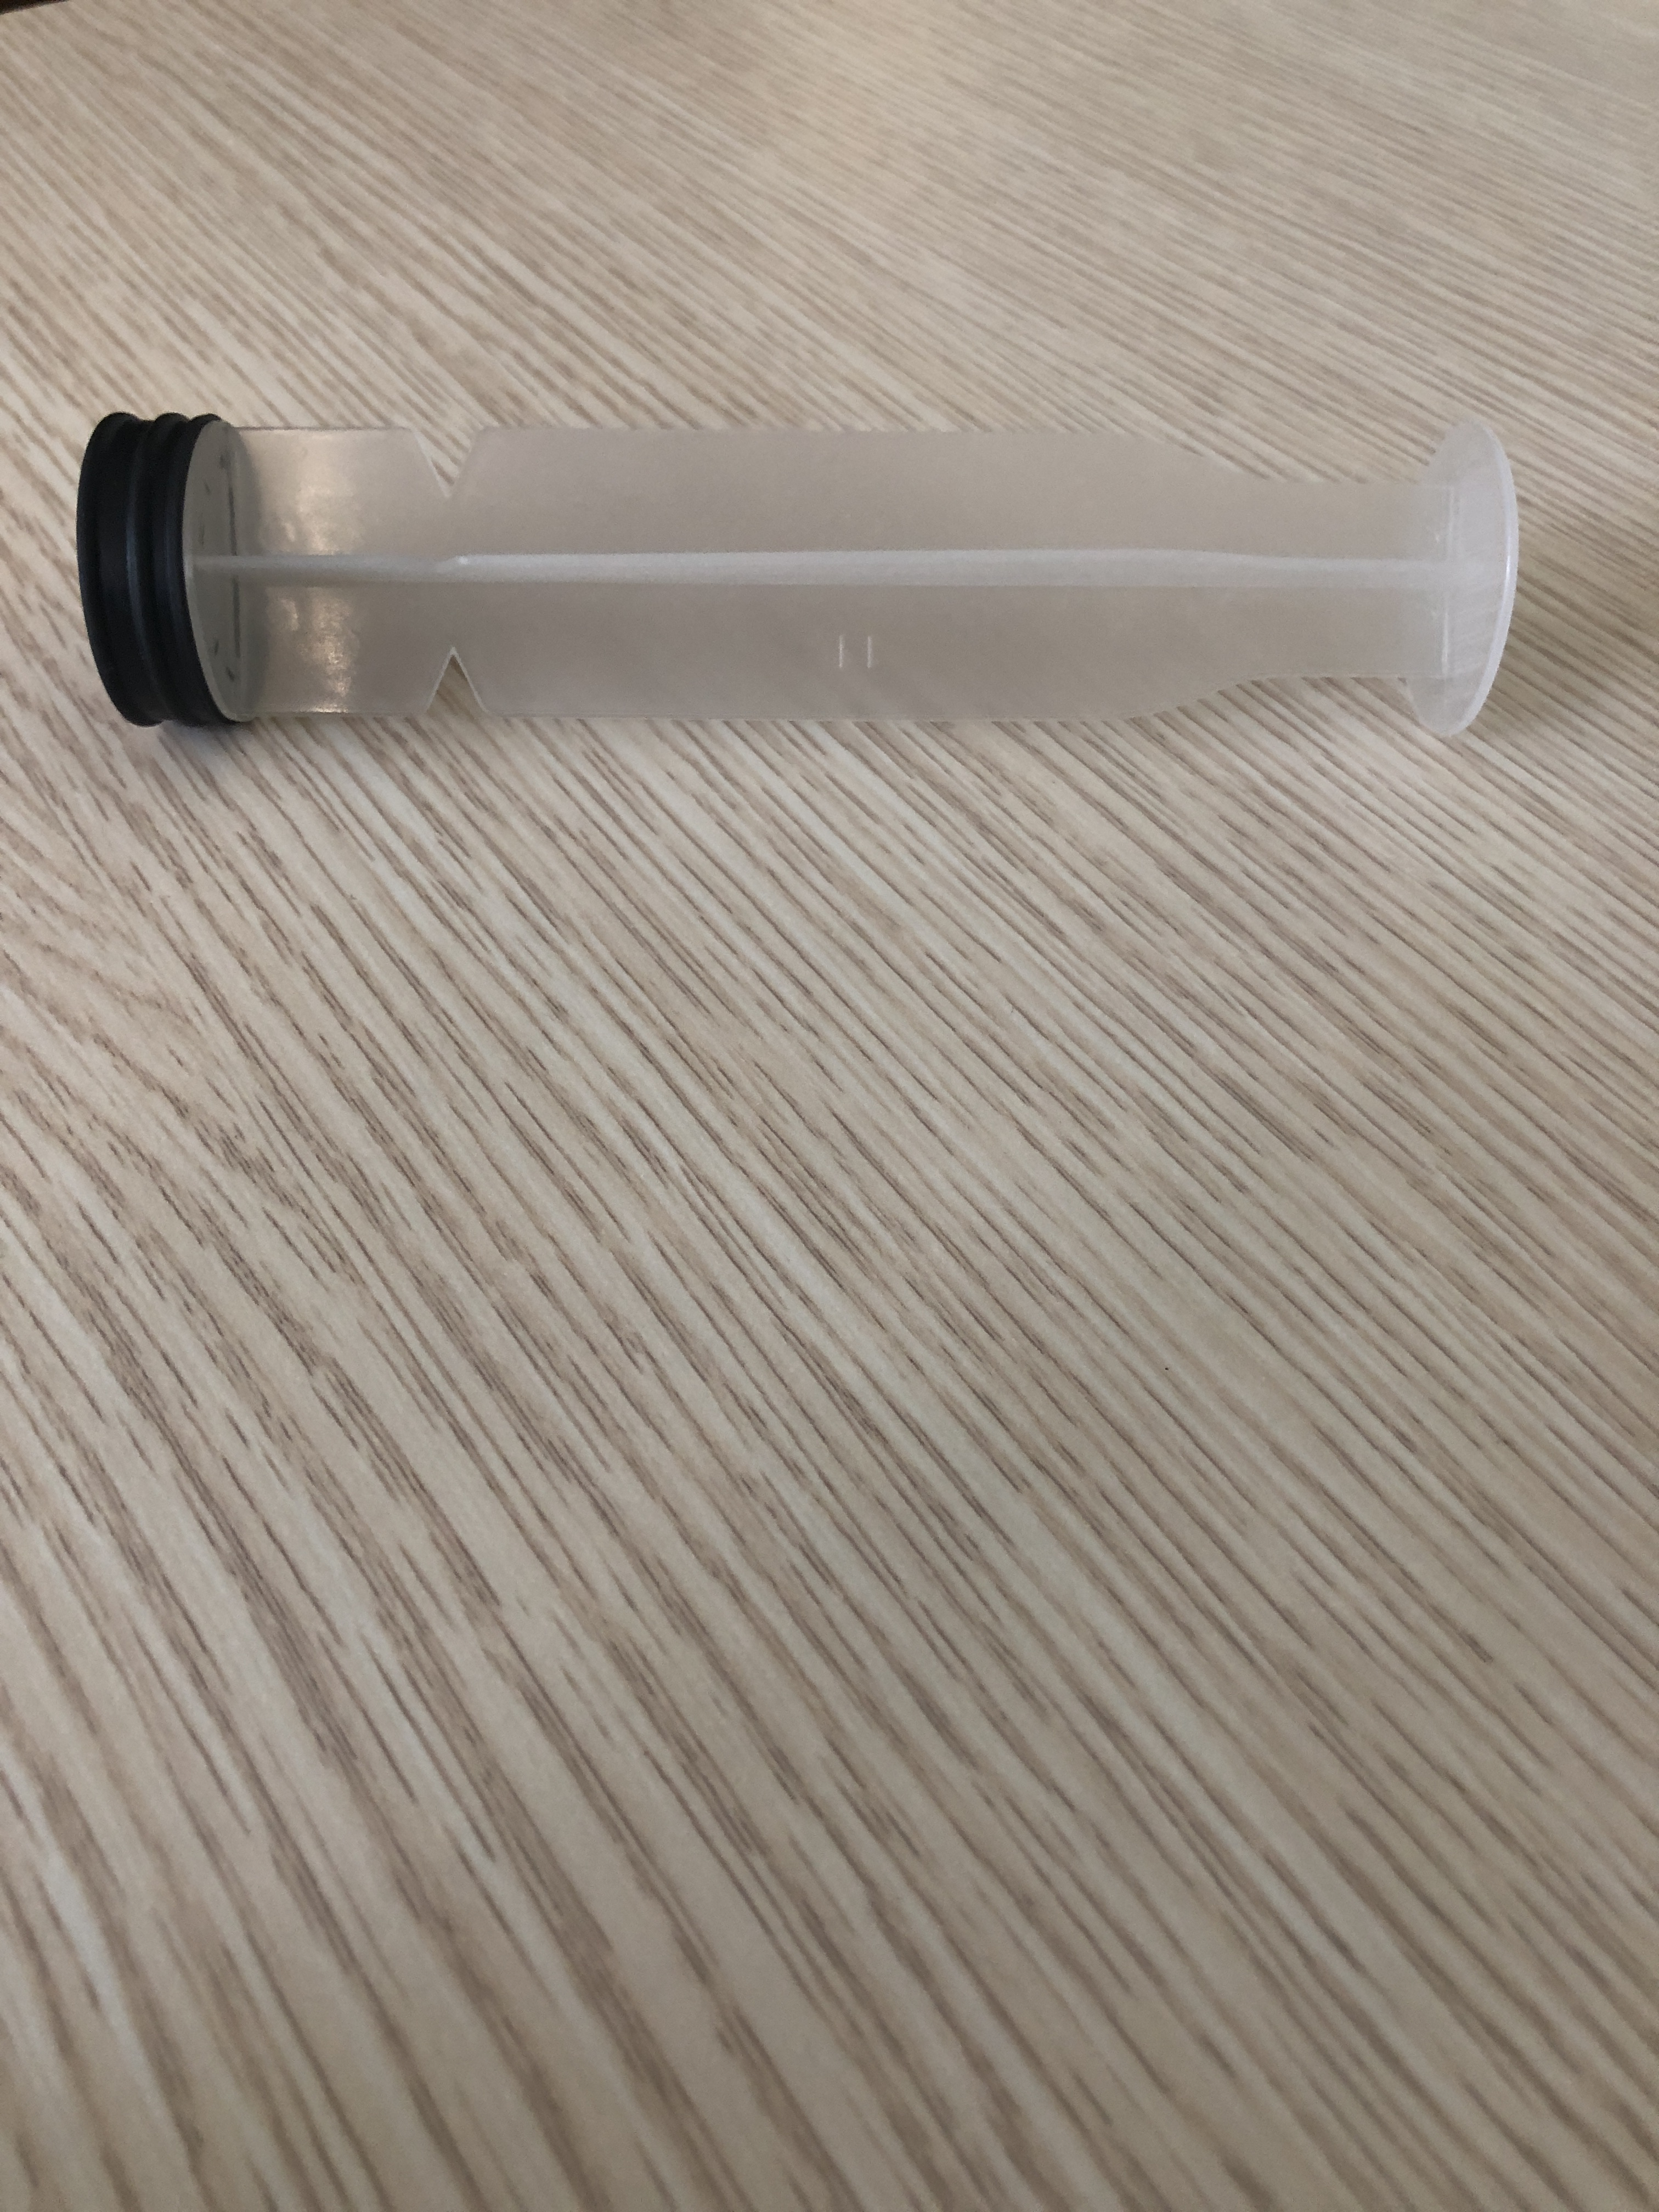plunger: (70, 380, 1534, 751)
